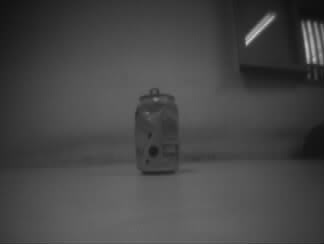Tin can: (133, 87, 180, 175)
